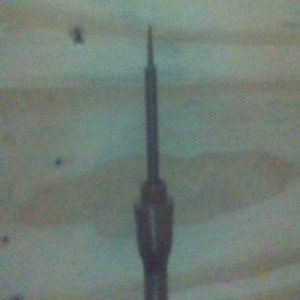solder: (132, 22, 174, 300)
